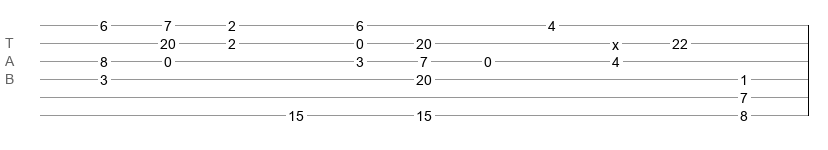0: (164, 54, 172, 64), (356, 36, 364, 46), (484, 54, 492, 64)
1: (740, 72, 748, 82)
15: (288, 108, 304, 118), (416, 108, 432, 118)
2: (228, 36, 236, 46), (228, 18, 236, 28)
20: (160, 36, 176, 46), (416, 72, 432, 82), (416, 36, 432, 46)
22: (672, 36, 688, 46)
3: (100, 72, 108, 82), (356, 54, 364, 64)
4: (548, 18, 556, 28), (612, 54, 620, 64)
6: (100, 18, 108, 28), (356, 18, 364, 28)
7: (164, 18, 172, 28), (420, 54, 428, 64), (740, 90, 748, 100)
8: (100, 54, 108, 64), (740, 108, 748, 118)
x: (612, 37, 619, 45)
